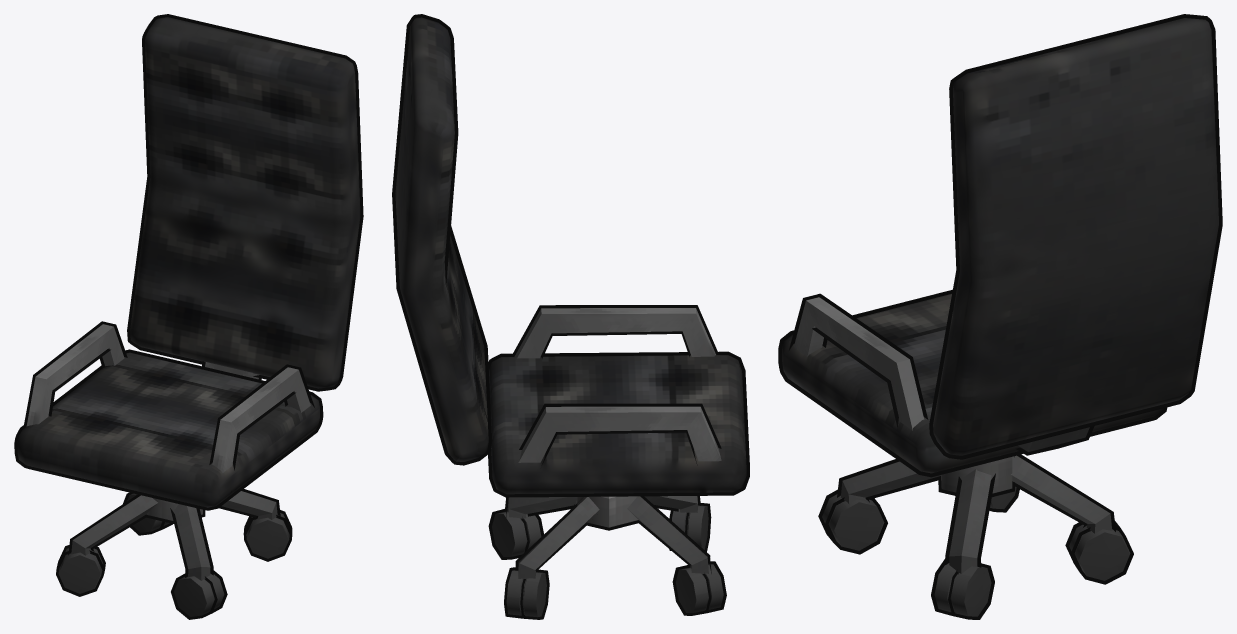
The model's file is Cadeira chefe.glb.
3 views of the same model, side by side, from view 1: azimuth 30°, elevation 25°; view 2: azimuth 150°, elevation 25°; view 3: azimuth 270°, elevation 25° (orthographic). The views are drawn at different scales.
Visible parts, largest first — view 1: Cadeira presidente_001; view 2: Cadeira presidente_001; view 3: Cadeira presidente_001.
Part boxes in pixels (<box>): Cadeira presidente_001: <box>14,14,363,619</box>; Cadeira presidente_001: <box>392,14,749,619</box>; Cadeira presidente_001: <box>778,14,1222,619</box>.
Bounding box in the file's own units: 1.4 × 1.91 × 1.29.
2 materials, 1 textured.
